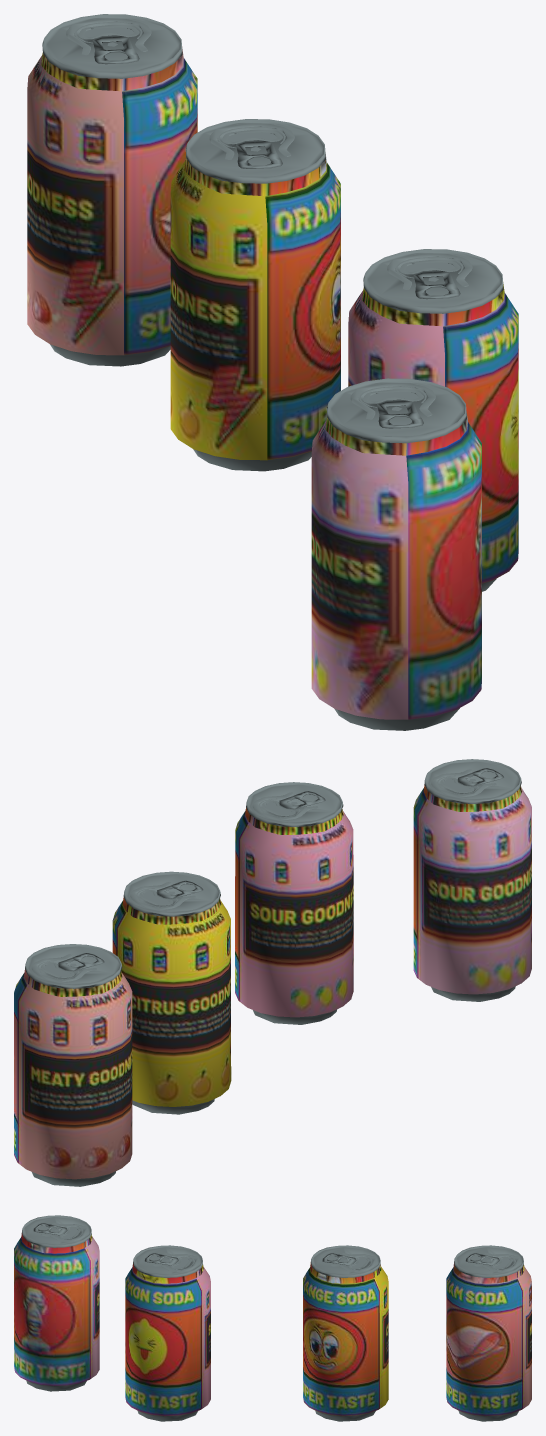
Rendered from Soda_Can_Lemon.fbx.
3 renders of one model, top to bottom at view 1: azimuth 30°, elevation 25°; view 2: azimuth 150°, elevation 25°; view 3: azimuth 270°, elevation 25°, orthographic. The views are drawn at different scales.
Visible parts, largest first — view 1: joke soda, orange soda, ham soda, lemon soda; view 2: joke soda, lemon soda, ham soda, orange soda; view 3: orange soda, lemon soda, ham soda, joke soda.
Boxes of the visible parts, x1=… form: joke soda: x1=311, y1=378, x2=481, y2=730; orange soda: x1=170, y1=119, x2=340, y2=471; ham soda: x1=27, y1=14, x2=197, y2=366; lemon soda: x1=348, y1=249, x2=518, y2=591; joke soda: x1=413, y1=759, x2=531, y2=1001; lemon soda: x1=235, y1=782, x2=353, y2=1024; ham soda: x1=14, y1=944, x2=132, y2=1186; orange soda: x1=112, y1=871, x2=231, y2=1114; orange soda: x1=303, y1=1245, x2=388, y2=1421; lemon soda: x1=125, y1=1245, x2=210, y2=1421; ham soda: x1=446, y1=1245, x2=531, y2=1421; joke soda: x1=14, y1=1215, x2=99, y2=1391.
Bounding box in the file's own units: 587 × 583 × 1776.
